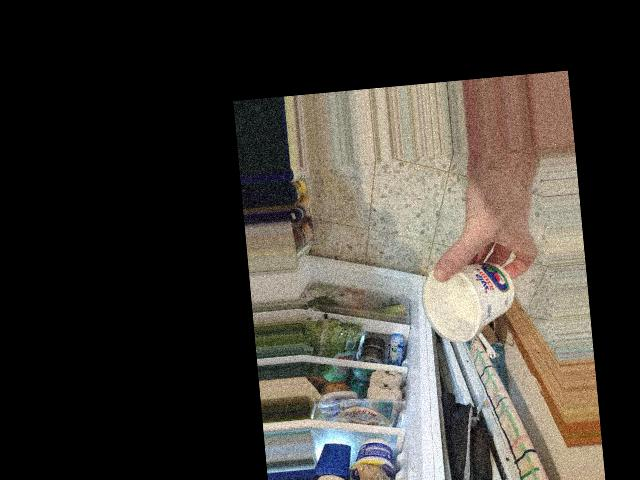cotage: (427, 255, 518, 339)
